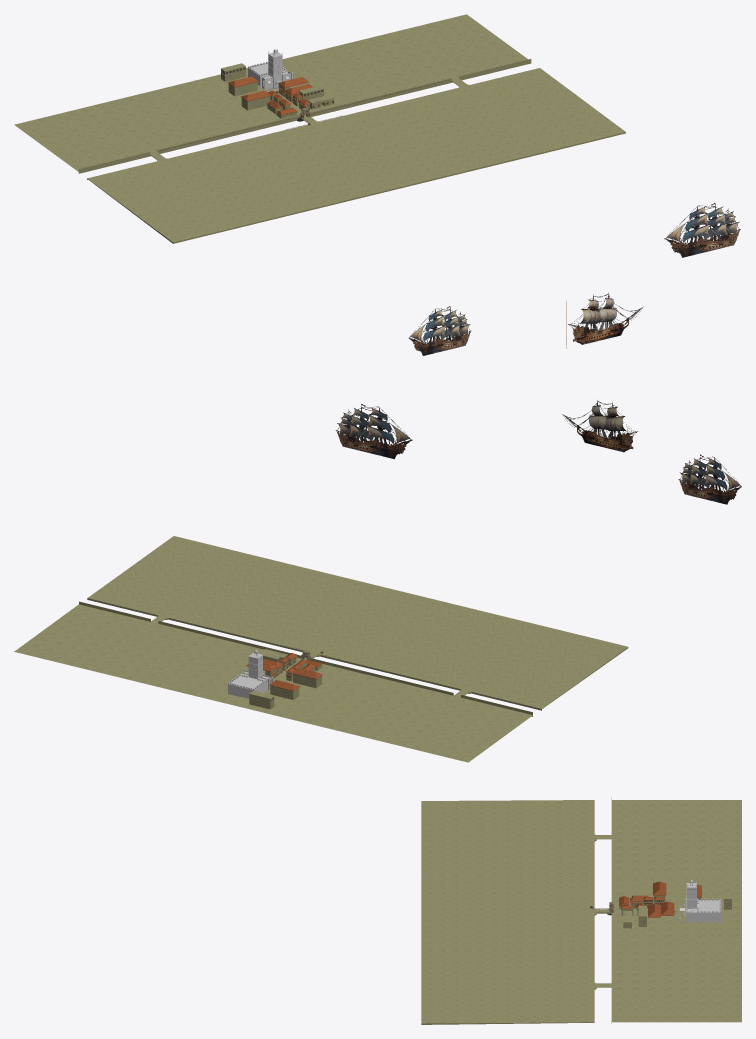
Rendered from Ar Vr Gate Environment.fbx.
The picture shows the model from 3 angles, top to bottom: view 1: azimuth 30°, elevation 25°; view 2: azimuth 150°, elevation 25°; view 3: azimuth 270°, elevation 25°; orthographic projection.
Parts seen in each view (by area): view 1: pCube18 (×3), sand3, sand2, sand1, pPlane4, pPlane2, pPlane3, roof_1, CHURCH, wall2, wall3, wall1; view 2: pCube18 (×3), sand3, sand2, sand1, pPlane4, pPlane2, pPlane3, CHURCH, roof_1; view 3: pCube18 (×3), sand2, sand3, sand1, CHURCH, roof_1.
Boxes of the visible parts, x1=… form: pCube18 (×3): x1=14, y1=14, x2=527, y2=171; sand3: x1=87, y1=141, x2=323, y2=243; sand2: x1=389, y1=68, x2=625, y2=170; sand1: x1=238, y1=105, x2=474, y2=206; pPlane4: x1=664, y1=203, x2=740, y2=257; pPlane2: x1=408, y1=306, x2=471, y2=355; pPlane3: x1=566, y1=292, x2=643, y2=348; roof_1: x1=228, y1=76, x2=312, y2=115; CHURCH: x1=248, y1=49, x2=293, y2=92; wall2: x1=78, y1=132, x2=229, y2=173; wall3: x1=380, y1=59, x2=531, y2=100; wall1: x1=229, y1=95, x2=380, y2=136; pCube18 (×3): x1=14, y1=604, x2=532, y2=762; sand3: x1=390, y1=610, x2=628, y2=710; sand2: x1=87, y1=536, x2=324, y2=636; sand1: x1=239, y1=573, x2=476, y2=673; pPlane4: x1=335, y1=404, x2=412, y2=459; pPlane2: x1=678, y1=454, x2=741, y2=504; pPlane3: x1=562, y1=400, x2=638, y2=452; CHURCH: x1=228, y1=650, x2=273, y2=698; roof_1: x1=246, y1=653, x2=322, y2=691; pCube18 (×3): x1=612, y1=800, x2=741, y2=1022; sand2: x1=421, y1=948, x2=611, y2=1024; sand3: x1=421, y1=800, x2=611, y2=875; sand1: x1=421, y1=874, x2=611, y2=949; CHURCH: x1=679, y1=880, x2=721, y2=922; roof_1: x1=619, y1=881, x2=701, y2=917.
Bounding box in the file's own units: 39565 × 4052 × 54716.
